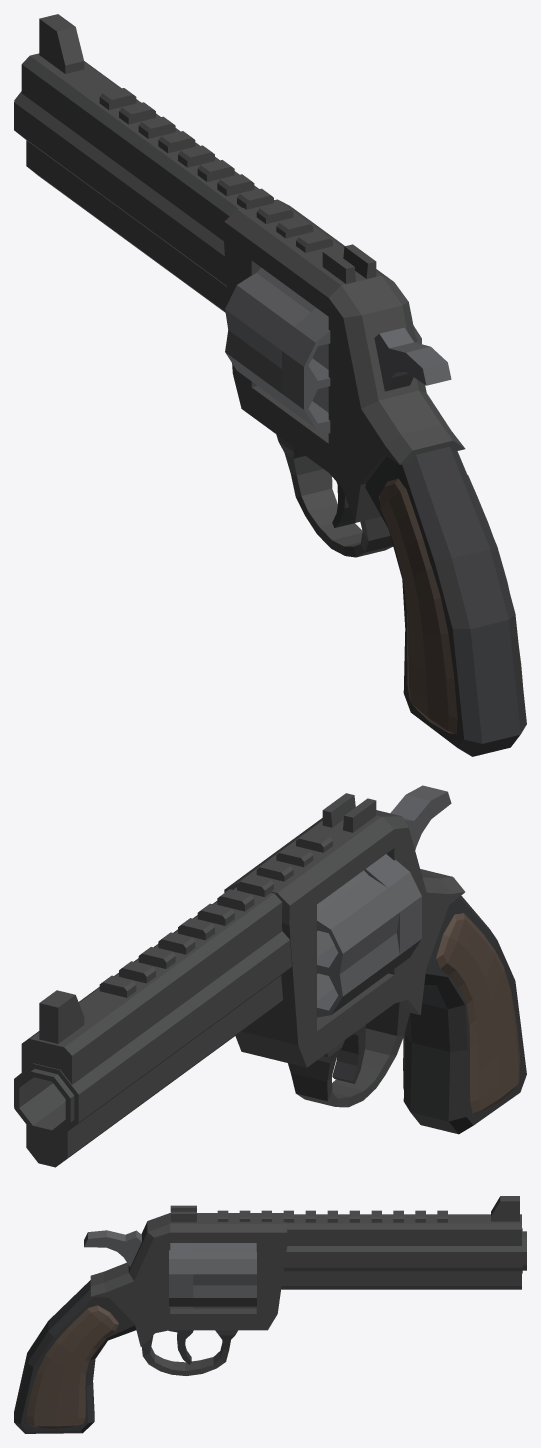
The model's file is revolver_2.glb.
3 renders of one model, top to bottom at view 1: azimuth 30°, elevation 25°; view 2: azimuth 150°, elevation 25°; view 3: azimuth 270°, elevation 25°, orthographic. The views are drawn at different scales.
Parts seen in each view (by area): view 1: Revolver_2; view 2: Revolver_2; view 3: Revolver_2.
Part boxes in pixels (x1,y1,x2,y2): Revolver_2: (14, 14, 526, 756); Revolver_2: (14, 785, 526, 1167); Revolver_2: (14, 1196, 526, 1433).
Size of the model in its own units: 0.046 by 0.1534 by 0.3099.
